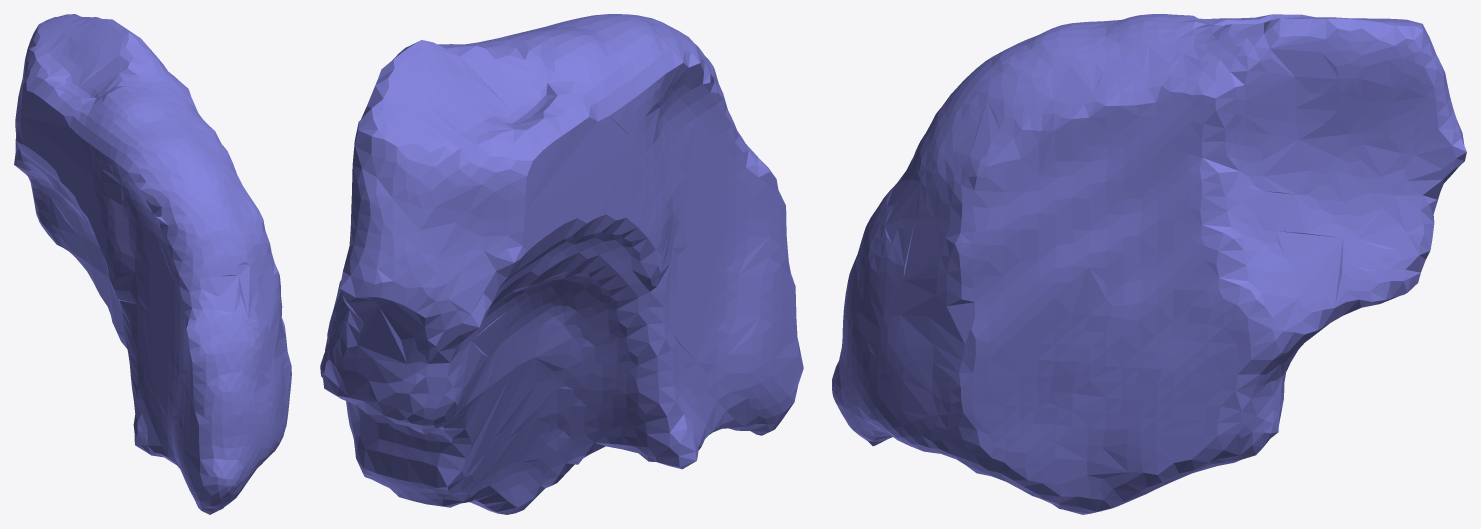
Rendered from Model_243_RH__Lateral_septal_nuclei_(LS).obj.
3 views of the same model, side by side, from view 1: azimuth 30°, elevation 25°; view 2: azimuth 150°, elevation 25°; view 3: azimuth 270°, elevation 25° (orthographic). The views are drawn at different scales.
Size of the model in its own units: 1.42 by 3.11 by 3.76.
